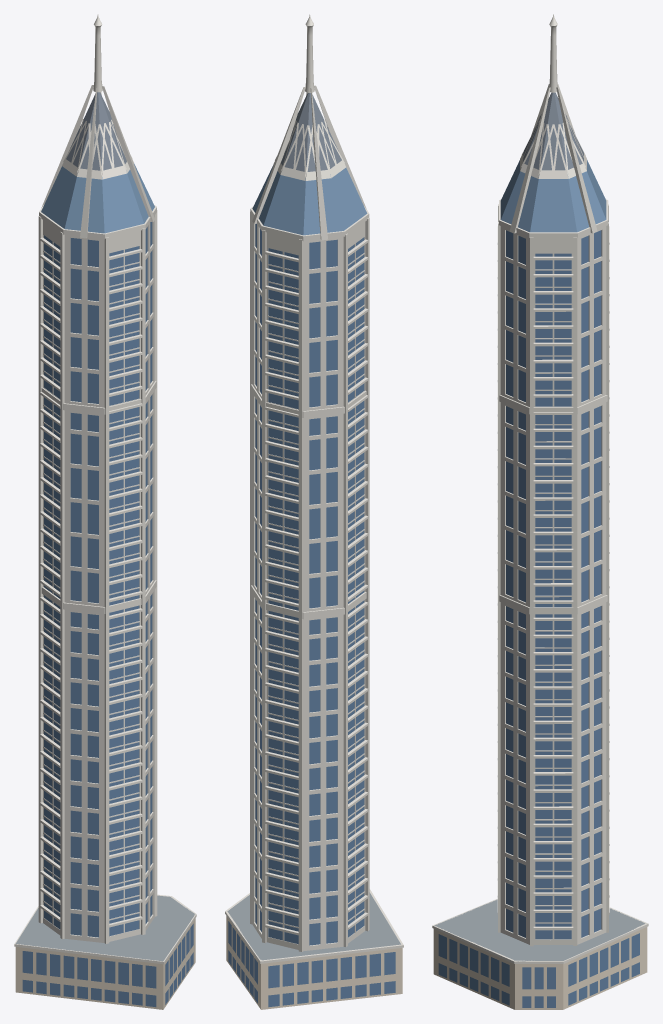
The model's file is dubai-23-marina.detail.glb.
3 views of the same model, side by side, from view 1: azimuth 30°, elevation 25°; view 2: azimuth 150°, elevation 25°; view 3: azimuth 270°, elevation 25° (orthographic).
Parts seen in each view (by area): view 1: 23 Marina; view 2: 23 Marina; view 3: 23 Marina.
Part boxes in pixels (bbox=[...]): 23 Marina: bbox=[14, 14, 196, 1009]; 23 Marina: bbox=[225, 14, 403, 1009]; 23 Marina: bbox=[432, 14, 648, 1009].
Bounding box in the file's own units: 72.21 × 392 × 80.41.
